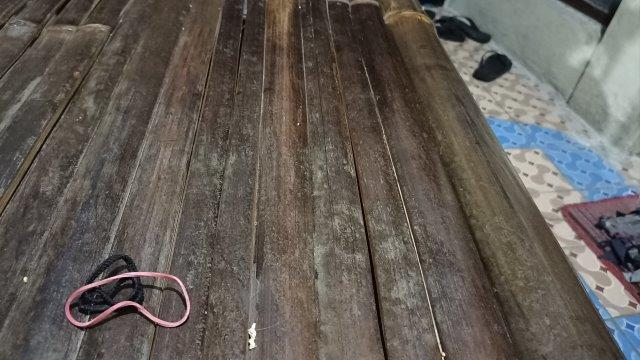karet: (64, 254, 191, 326)
